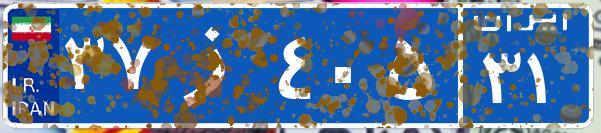0: (330, 28, 385, 110)
1: (525, 38, 570, 115)
3: (57, 26, 110, 107), (475, 38, 525, 113)
4: (273, 28, 330, 110)
5: (385, 28, 445, 110)
7: (110, 28, 158, 105)
ز: (158, 15, 273, 115)
